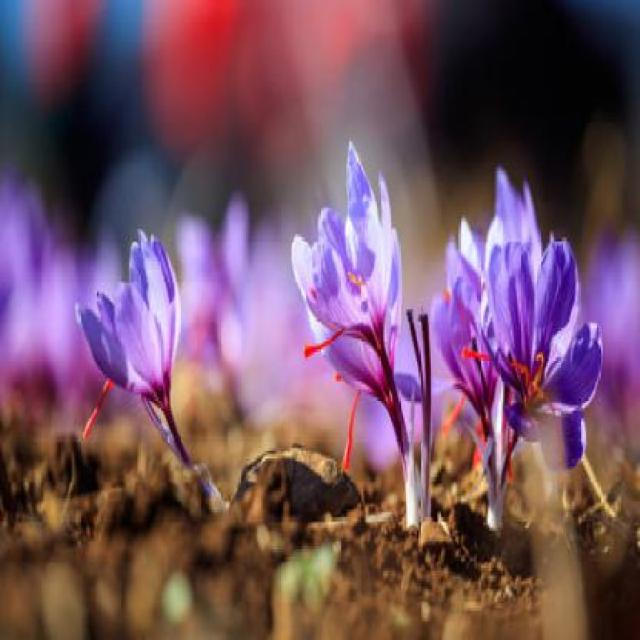Flower: (483, 231, 608, 472), (281, 134, 393, 338), (72, 224, 188, 411), (292, 236, 408, 393), (431, 219, 508, 434)
stigma: (337, 387, 388, 476), (301, 321, 381, 361), (438, 386, 487, 439), (80, 378, 116, 440)
